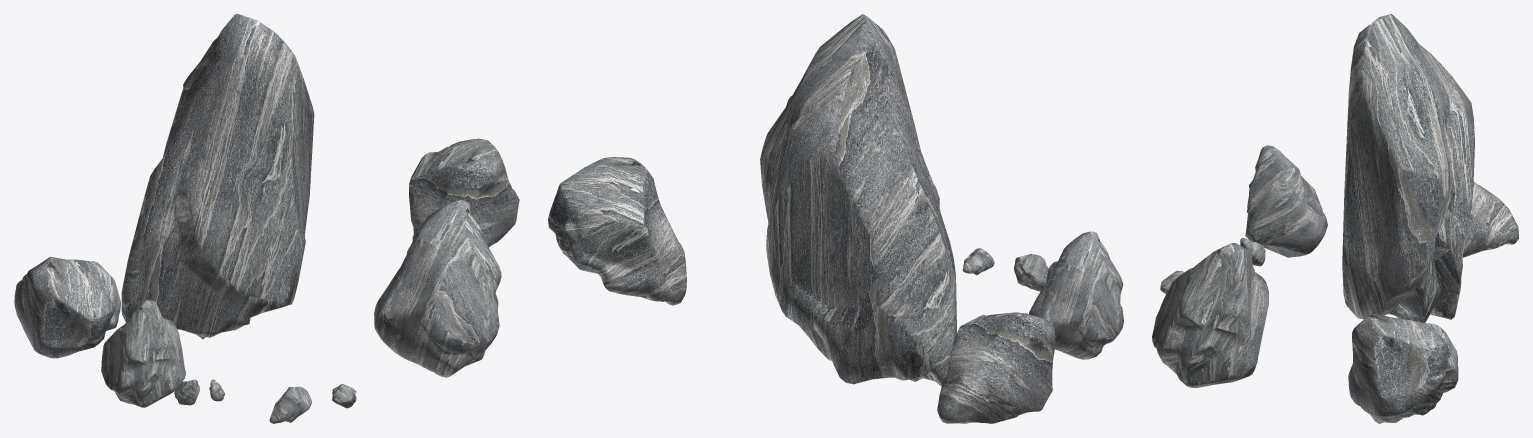
Rendered from SM_SUMountain1.fbx.
The picture shows the model from 3 angles, left to right: view 1: azimuth 30°, elevation 25°; view 2: azimuth 150°, elevation 25°; view 3: azimuth 270°, elevation 25°; orthographic projection. The views are drawn at different scales.
Parts seen in each view (by area): view 1: m2obj1_5, m2obj1_4, m2obj1_0, m2obj1_1_1, m2obj1_3, m2obj1_10, m2obj1_6, m2obj1_2; view 2: m2obj1_5, m2obj1_1_1, m2obj1_0, m2obj1_3, m2obj1_10, m2obj1_2; view 3: m2obj1_5, m2obj1_4, m2obj1_1_1, m2obj1_3, m2obj1_0, m2obj1_6.
Part boxes in pixels (<box>): m2obj1_5: <box>121,14,314,339</box>; m2obj1_4: <box>374,200,501,377</box>; m2obj1_0: <box>14,257,120,358</box>; m2obj1_1_1: <box>409,138,519,246</box>; m2obj1_3: <box>101,299,185,407</box>; m2obj1_10: <box>269,386,311,423</box>; m2obj1_6: <box>174,379,199,405</box>; m2obj1_2: <box>332,383,356,408</box>; m2obj1_5: <box>760,14,956,386</box>; m2obj1_1_1: <box>548,157,686,305</box>; m2obj1_0: <box>937,312,1055,423</box>; m2obj1_3: <box>1029,231,1123,359</box>; m2obj1_10: <box>1014,254,1048,291</box>; m2obj1_2: <box>962,248,994,275</box>; m2obj1_5: <box>1342,14,1474,322</box>; m2obj1_4: <box>1152,243,1268,387</box>; m2obj1_1_1: <box>1348,314,1458,423</box>; m2obj1_3: <box>1245,145,1327,257</box>; m2obj1_0: <box>1462,182,1518,257</box>; m2obj1_6: <box>1240,238,1265,266</box>.
Bounding box in the file's own units: 263 × 173 × 180.
